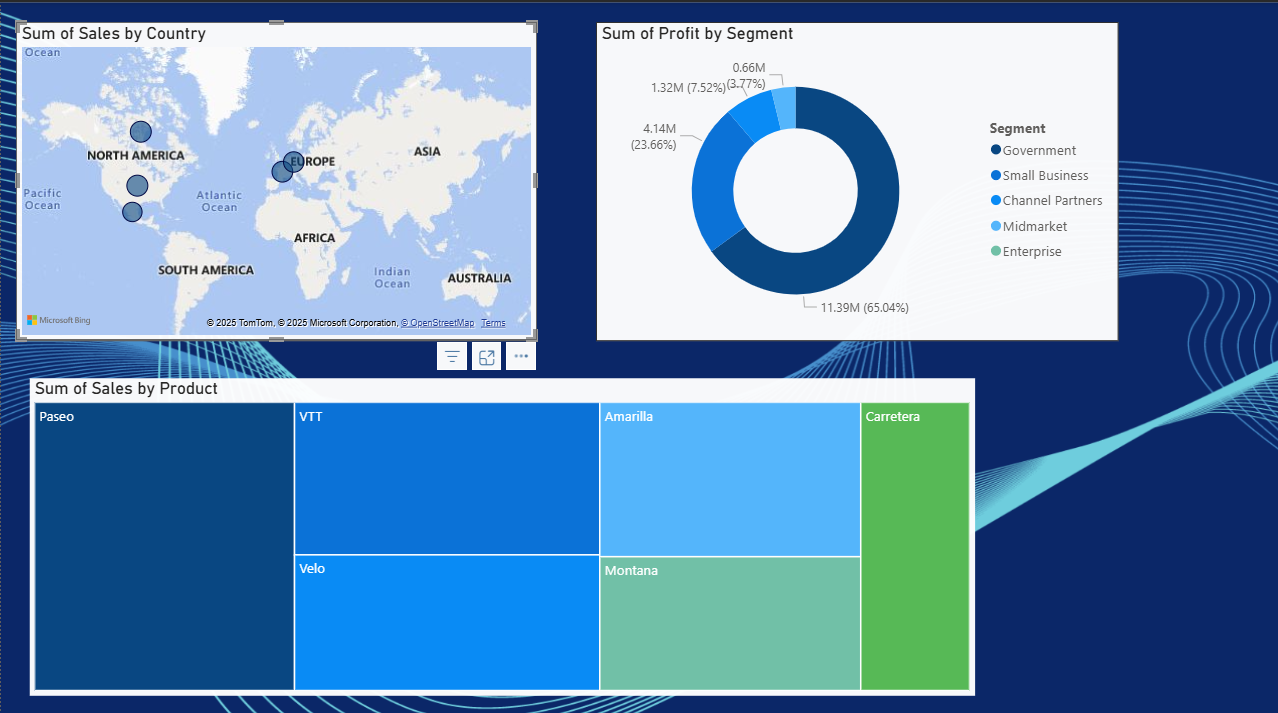

What the dashboard file says about the page in this screenshot:
{"tool":"powerbi","page":{"name":"Page 2","canvas":[1280,720],"ordinal":1},"visuals":[{"type":"map","fields":{"Category":["Sheet1.Country"],"Size":["Sum(Sheet1. Sales)"]},"box":[14.9,19.9,518.7,317.2],"z":0},{"type":"donutChart","fields":{"Y":["Sum(Sheet1.Profit)"],"Category":["Sheet1.Segment"]},"box":[592.1,19.9,520,317.2],"z":1},{"type":"treemap","fields":{"Values":["Sum(Sheet1. Sales)"],"Group":["Sheet1.Product"]},"box":[28.6,374.4,940.4,316],"z":2}]}

Visuals, with their boxes in screenshot pixels (x1, y1, x2, y2), scaled from the page's 1280x720 canvas onto the 1278x713 screenshot:
map - Sheet1.Country x Sum(Sheet1. Sales): box(15, 20, 533, 334)
donutChart - Sum(Sheet1.Profit) x Sheet1.Segment: box(591, 20, 1110, 334)
treemap - Sum(Sheet1. Sales) x Sheet1.Product: box(29, 371, 967, 684)
